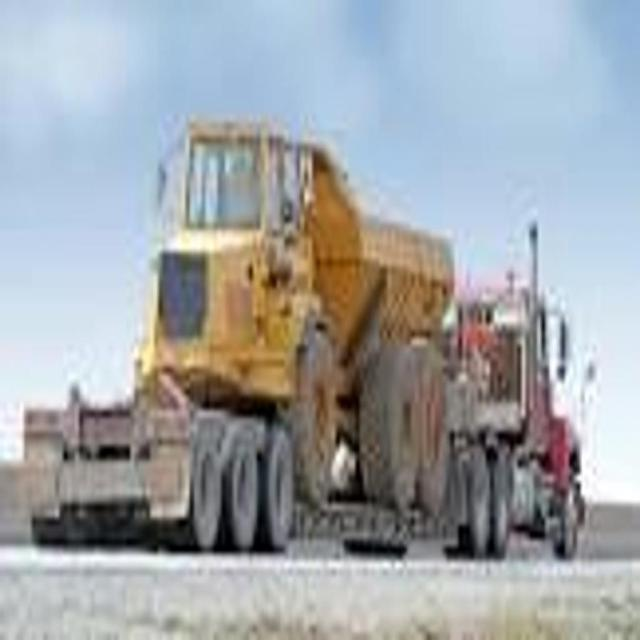dump_truck: (145, 111, 449, 536)
